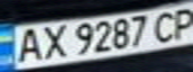2: (90, 17, 115, 54)
7: (127, 12, 154, 47)
8: (109, 16, 133, 51)
9: (69, 20, 97, 56)
A: (9, 26, 45, 64)
C: (148, 8, 184, 43)
P: (166, 5, 193, 39)
X: (36, 21, 69, 61)
